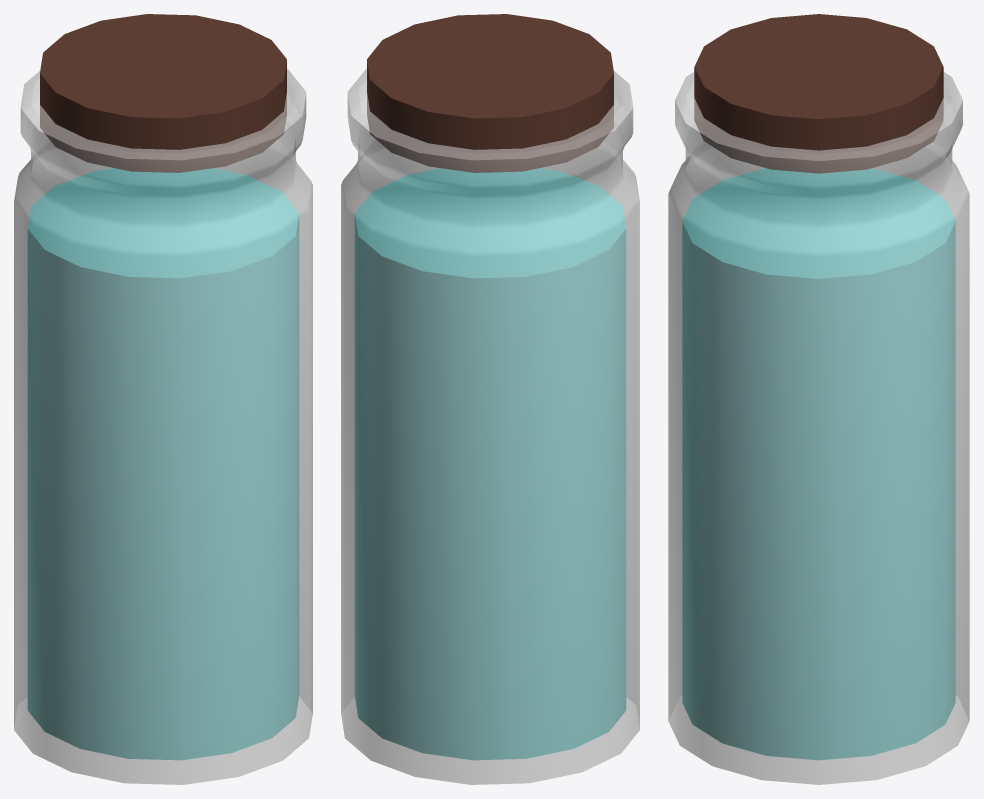
The model's file is Item_Water.fbx.
3 renders of one model, left to right at view 1: azimuth 30°, elevation 25°; view 2: azimuth 150°, elevation 25°; view 3: azimuth 270°, elevation 25°, orthographic.
Visible parts, largest first — view 1: Cylinder.017, Cylinder.018; view 2: Cylinder.017, Cylinder.018; view 3: Cylinder.017, Cylinder.018.
Boxes of the visible parts, left/top/right/bottom form: Cylinder.017: left=14, top=14, right=312, bottom=784; Cylinder.018: left=27, top=168, right=299, bottom=760; Cylinder.017: left=341, top=14, right=639, bottom=784; Cylinder.018: left=354, top=168, right=626, bottom=760; Cylinder.017: left=668, top=14, right=969, bottom=784; Cylinder.018: left=682, top=168, right=955, bottom=760.
Size of the model in its own units: 80.08 by 192 by 80.08.
